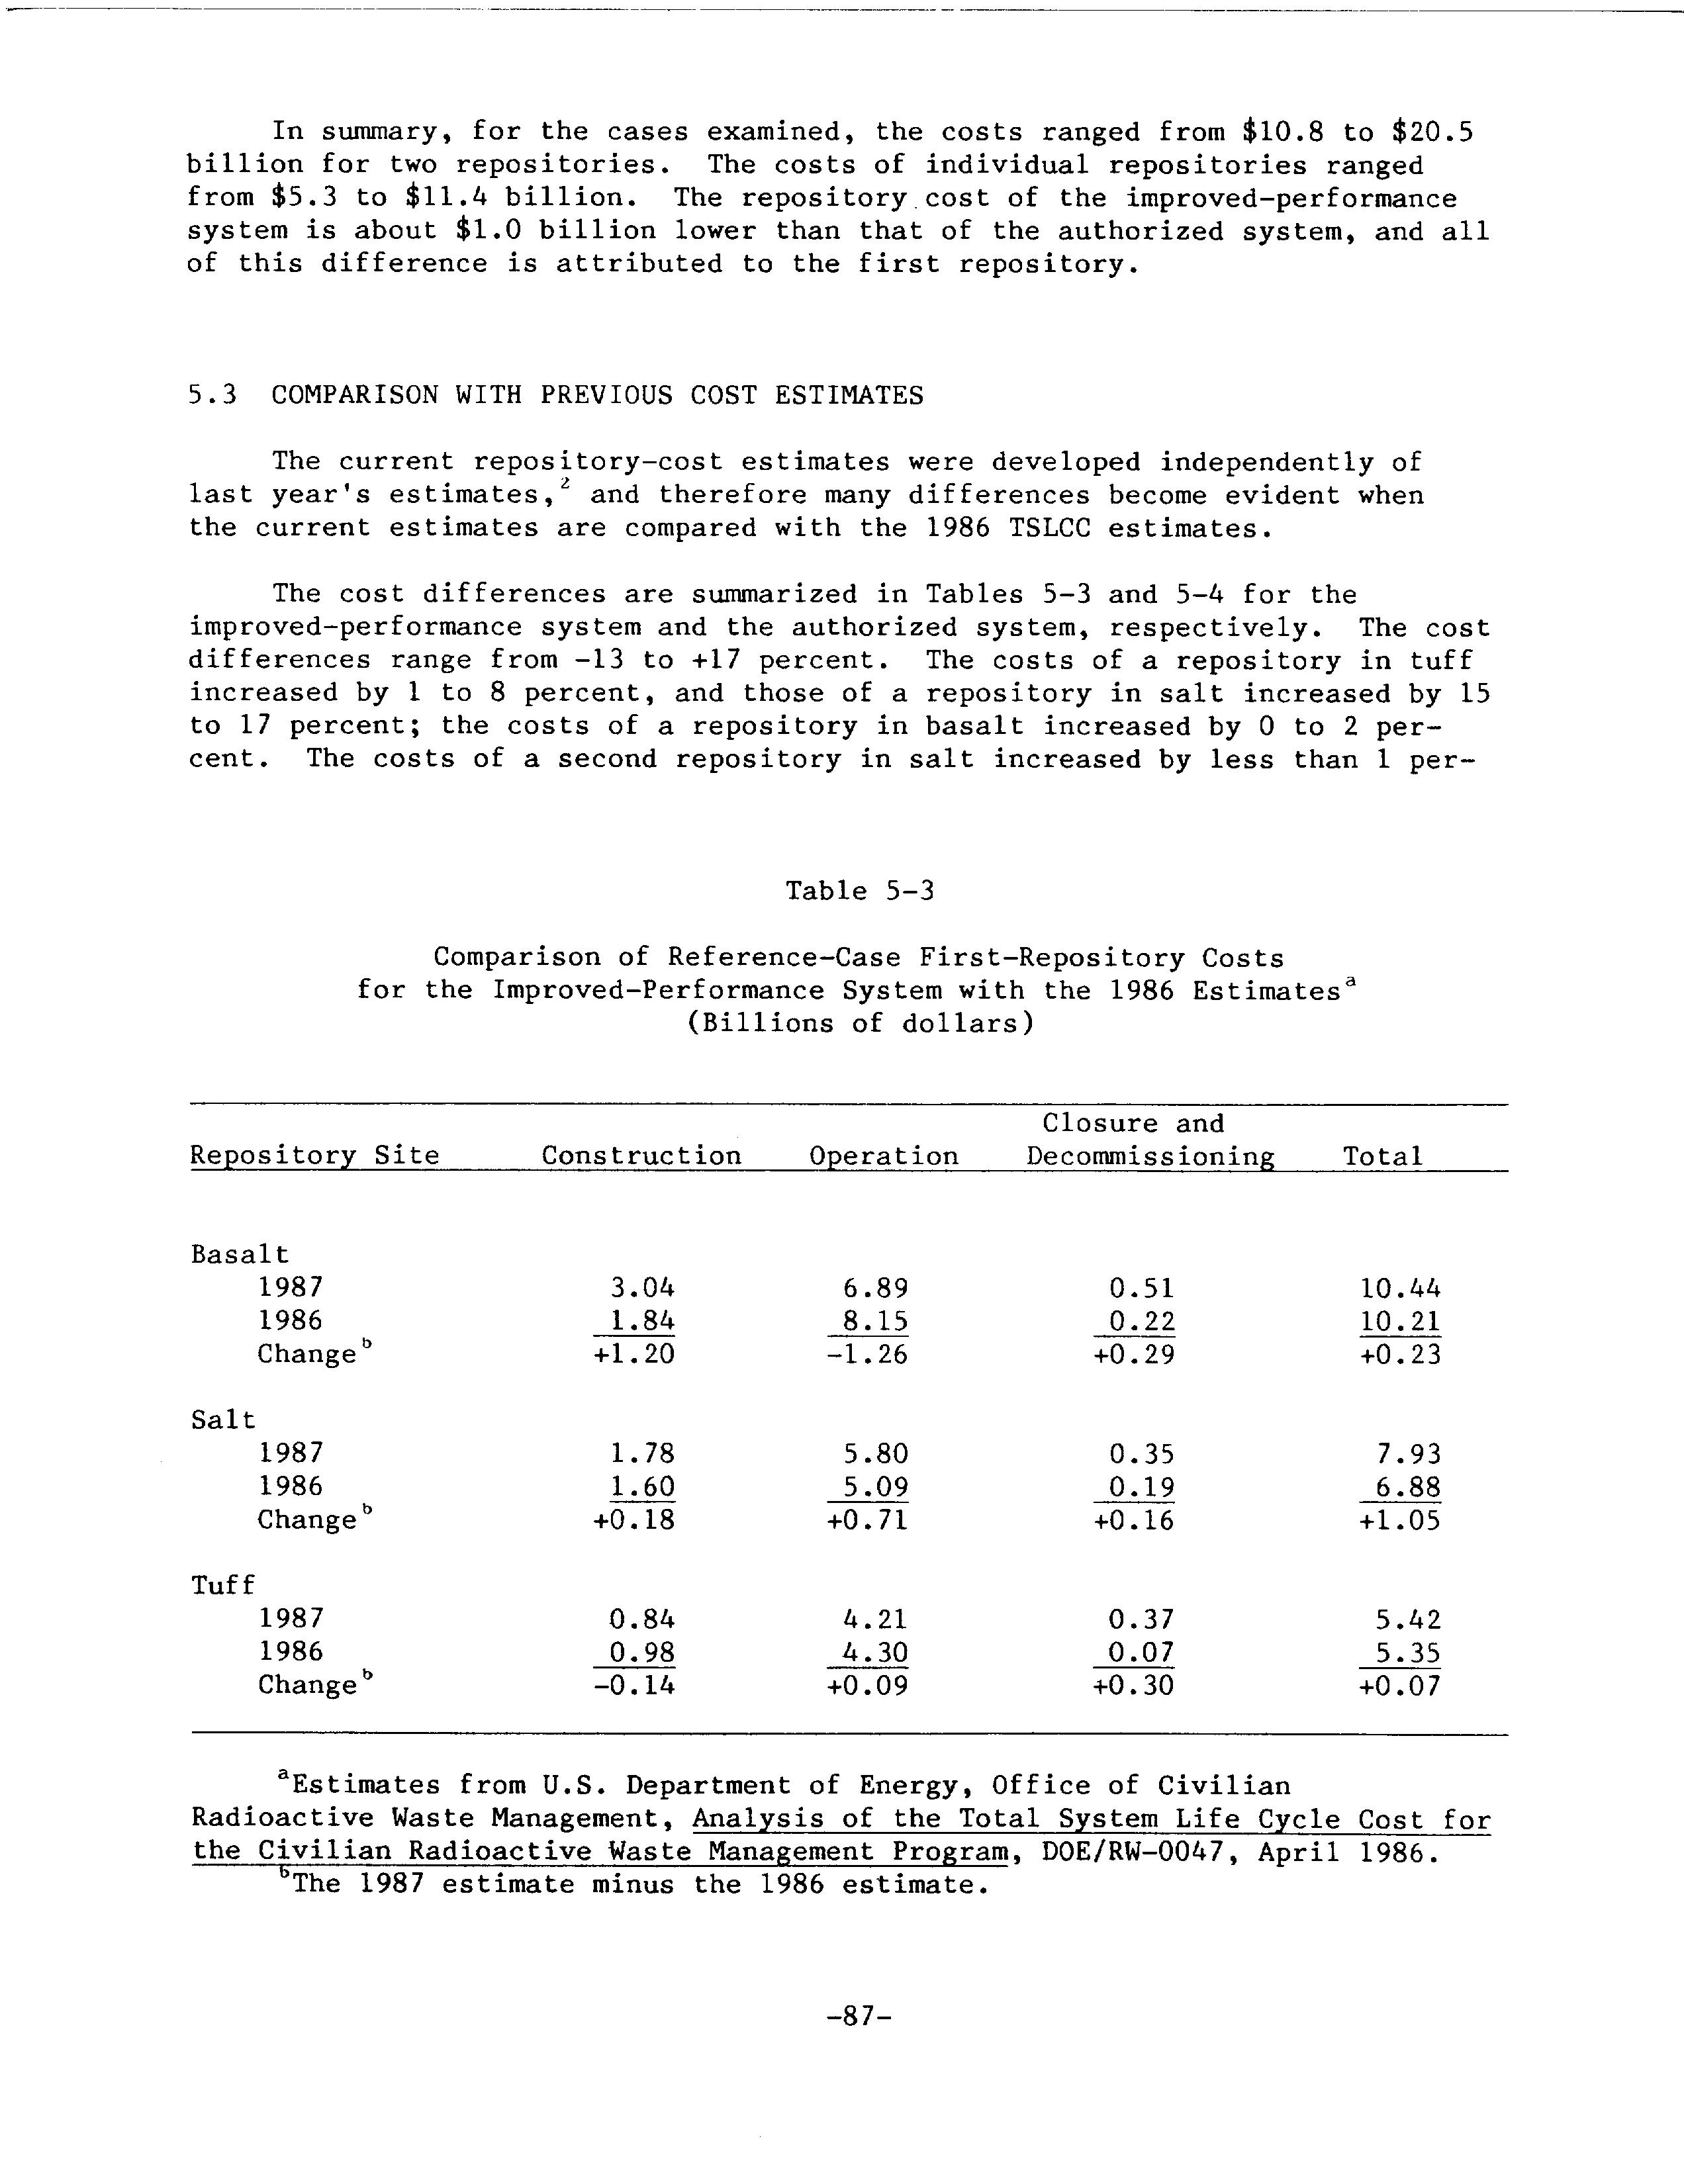borderless: (189, 1109, 1511, 1737)
